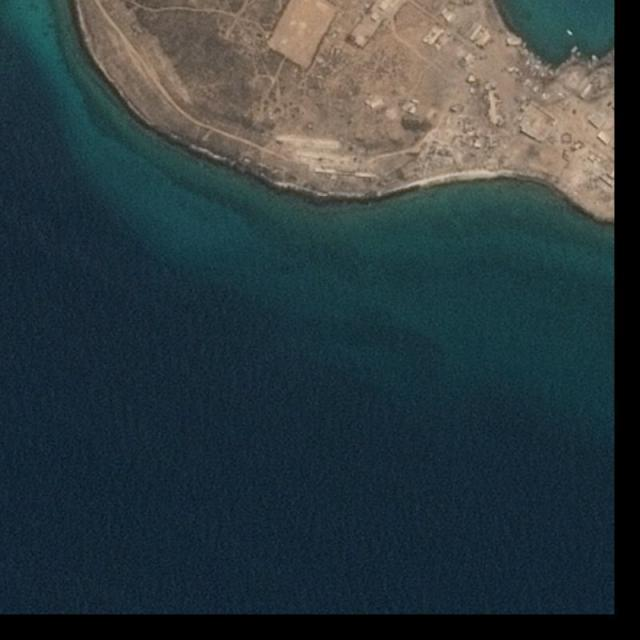ship: (570, 46, 579, 54), (566, 30, 574, 37)
